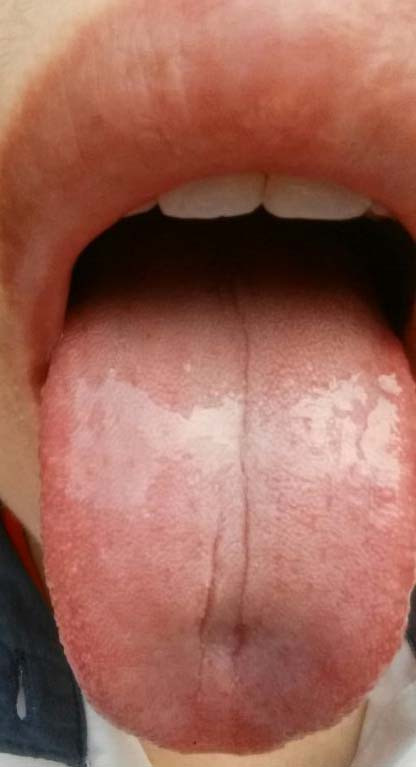baitaishe: (41, 257, 416, 756)
hongshe: (41, 257, 416, 756)
huataishe: (266, 360, 407, 528), (61, 366, 191, 521)
liewenshe: (196, 268, 252, 688)
